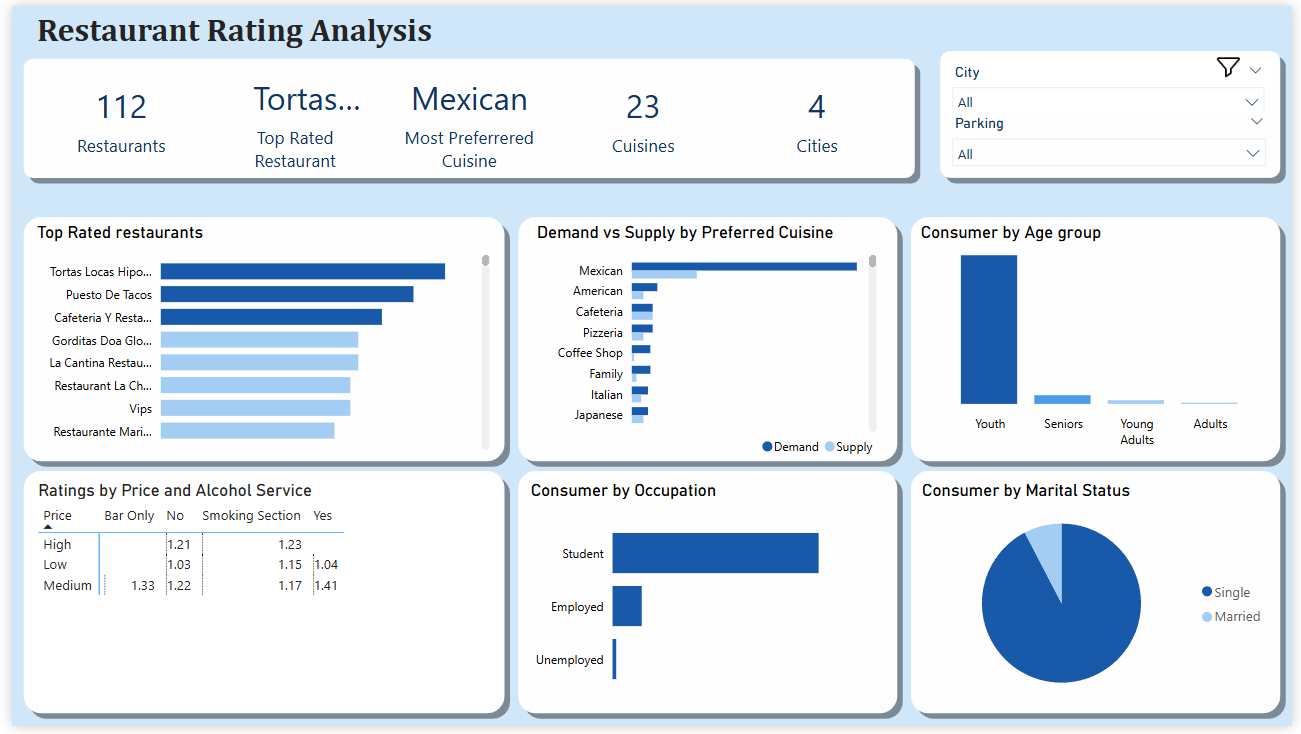

Layout of this report page (visuals, bound fields, positions):
{"tool":"powerbi","page":{"name":"Page 2","canvas":[1280,720],"ordinal":1},"visuals":[{"type":"clusteredBarChart","title":"Top Rated restaurants","fields":{"Category":["restaurants.Name"],"Y":["CountNonNull(ratings.Rating)"]},"box":[20,215.7,462.9,232.9],"z":0},{"type":"clusteredBarChart","title":"Demand vs Supply by Preferred Cuisine","fields":{"Category":["Demand_Supply.Preferred_Cuisine"],"Y":["Sum(Demand_Supply.Demand)","Sum(Demand_Supply.Supply)"]},"box":[520,215.7,350,242.9],"z":1000},{"type":"pieChart","title":"Consumer by Marital Status","fields":{"Category":["consumers.Marital_Status"],"Y":["CountNonNull(consumers.Consumer_ID)"]},"box":[904.8,474.1,358.3,228],"z":2000},{"type":"columnChart","title":"Consumer  by Age group","fields":{"Category":["consumers.Age group"],"Y":["CountNonNull(consumers.Consumer_ID)"]},"box":[904.3,215.7,358.6,232.9],"z":3000},{"type":"barChart","title":"Consumer by Occupation","fields":{"Y":["CountNonNull(consumers.Consumer_ID)"],"Category":["consumers.Occupation"]},"box":[513.9,474.1,365.6,228],"z":4000},{"type":"slicer","fields":{"Values":["restaurants.Parking"]},"box":[930,103.8,333.8,62.5],"z":5000},{"type":"slicer","fields":{"Values":["consumers.City"]},"box":[930,52.5,332.5,51.2],"z":6000},{"type":"image","box":[1168.8,42.5,95,36.2],"z":7000},{"type":"pivotTable","title":"Ratings by Price and Alcohol Service","fields":{"Columns":["restaurants.Alcohol_Service","restaurants.Smoking_Allowed"],"Rows":["restaurants.Price"],"Values":["Avg(ratings.Rating)"]},"box":[21,474.1,462.1,228],"z":8000},{"type":"cardVisual","fields":{"Data":["CountNonNull(restaurant_cuisines.Restaurant_ID)","Measures (2).Top Rated Restaurant","Measures (2).Top Rated Cuisine","Count(restaurant_cuisines.Cuisine)","Count(restaurants.City)"]},"box":[21.2,52.5,873.8,123.8],"z":9000},{"type":"textbox","box":[19.4,0,768.7,52.2],"z":10000}]}

Visuals, with their boxes in screenshot pixels (x1, y1, x2, y2), scaled from the page's 1280x720 canvas onto the 1301x734 screenshot:
"Top Rated restaurants" clusteredBarChart: Rect(20, 220, 491, 457)
"Demand vs Supply by Preferred Cuisine" clusteredBarChart: Rect(529, 220, 884, 468)
"Consumer by Marital Status" pieChart: Rect(920, 483, 1284, 716)
"Consumer  by Age group" columnChart: Rect(919, 220, 1284, 457)
"Consumer by Occupation" barChart: Rect(522, 483, 894, 716)
slicer - restaurants.Parking: Rect(945, 106, 1285, 170)
slicer - consumers.City: Rect(945, 54, 1283, 106)
image: Rect(1188, 43, 1285, 80)
"Ratings by Price and Alcohol Service" pivotTable: Rect(21, 483, 491, 716)
cardVisual - CountNonNull(restaurant_cuisines.Restaurant_ID) x Measures (2).Top Rated Restaurant: Rect(22, 54, 910, 180)
textbox: Rect(20, 0, 801, 53)
